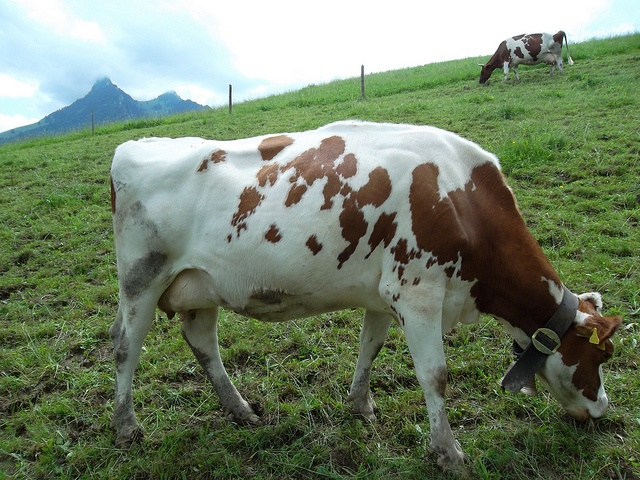cow: (84, 123, 627, 461), (468, 24, 614, 97)
